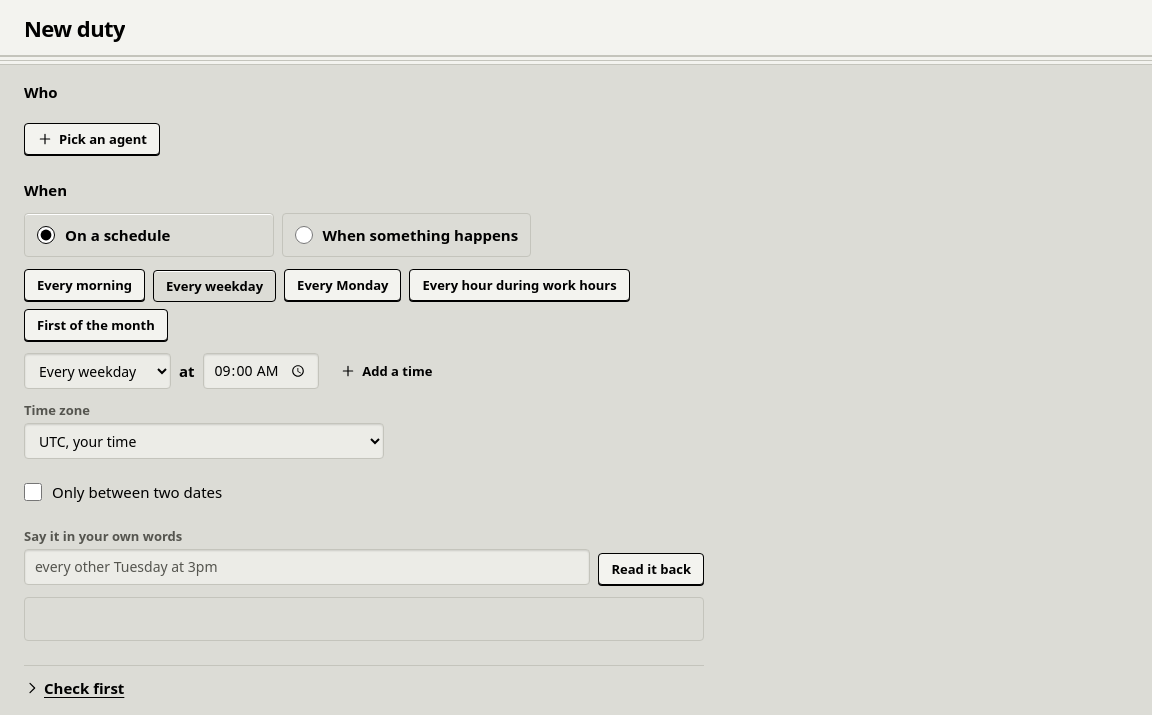
Test: When › starts a duty from an event, with its agent, and offers the chip of what happened
Click the radio button labelled "When something happens" at (304, 235), box [295,226,313,244]
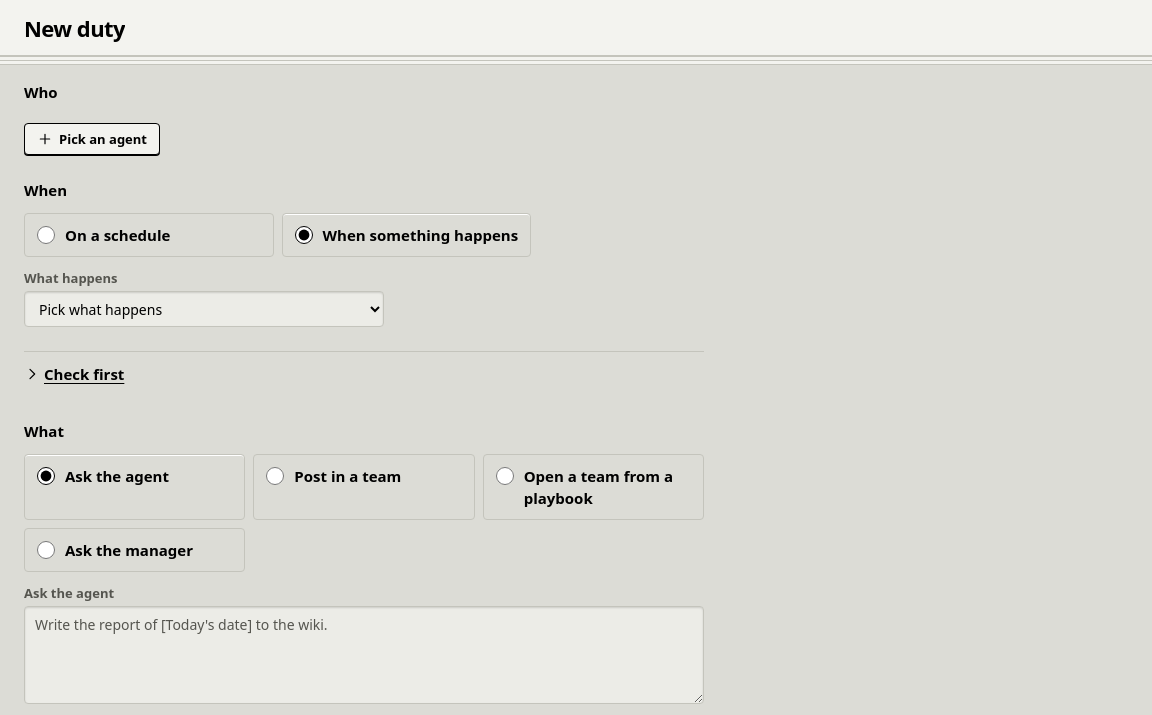
Select "When a team closes" in the dropdown labelled "What happens" at (204, 309), box [24,291,384,327]
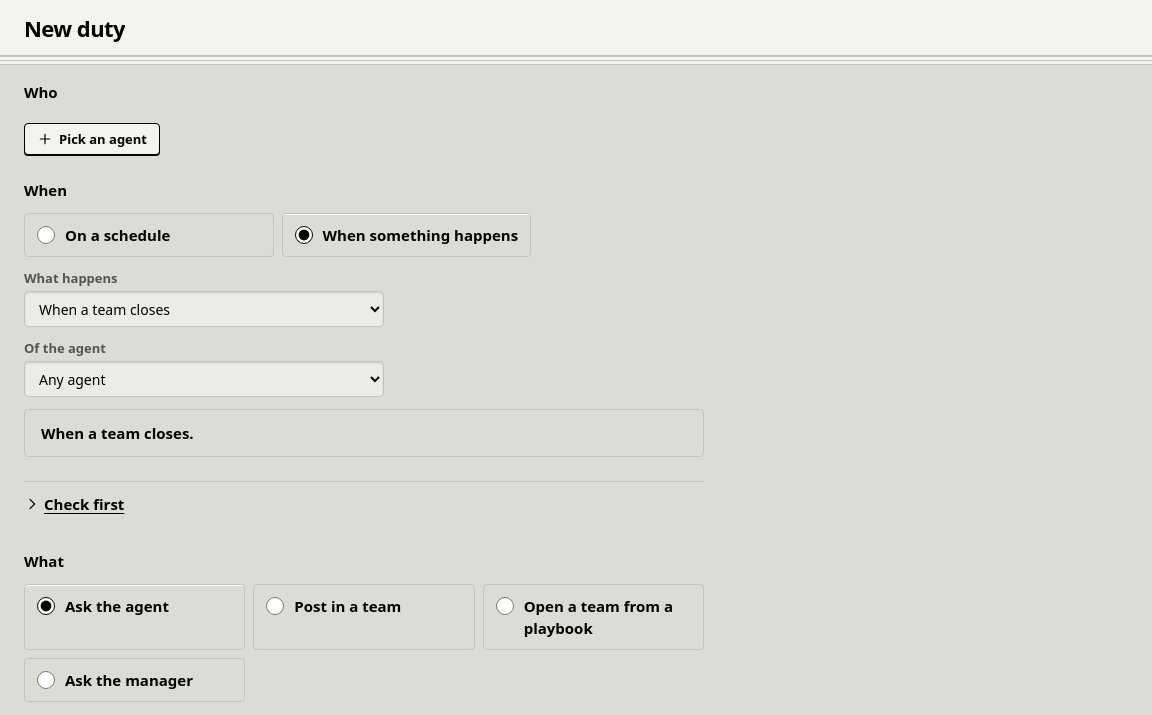
Select "Migrator" in the dropdown labelled "Of the agent" at (204, 379), box [24,361,384,397]
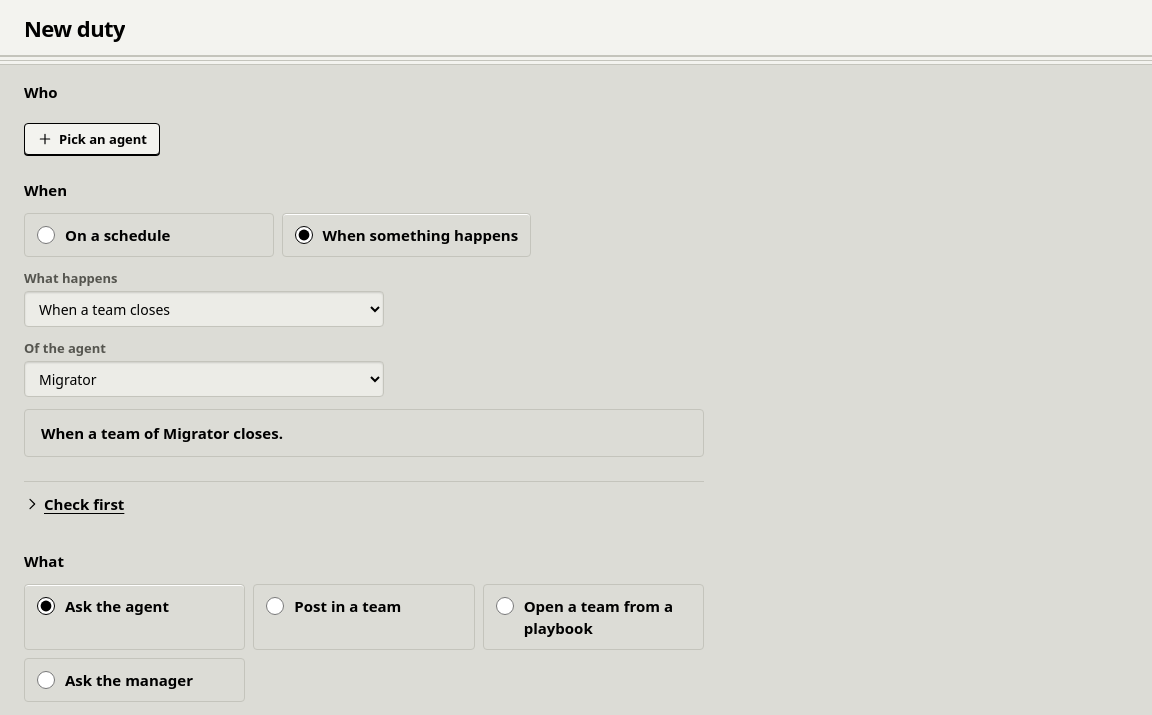
Now the text with class "duty-readback" reads "When a team of Migrator closes.", box [41,423,283,443]
Select "When a question waits too long" in the dropdown labelled "What happens" at (204, 309), box [24,291,384,327]
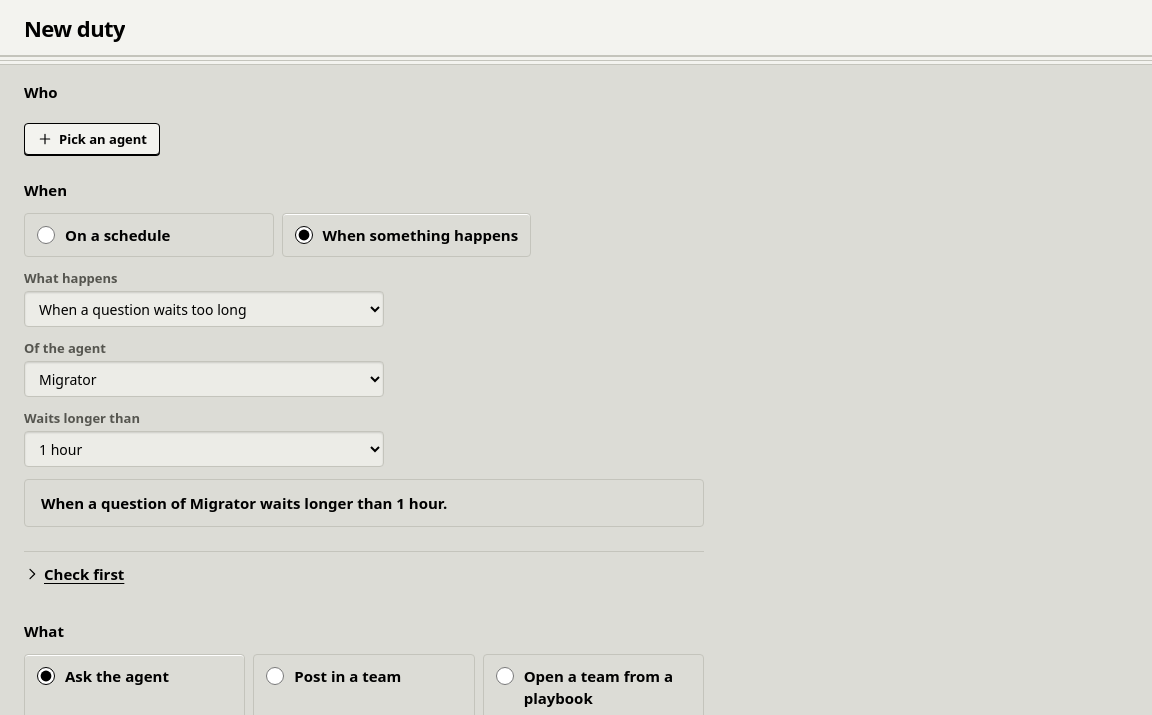
Now the dropdown labelled "Waits longer than" shows "1 hour"
Select "4 hours" in the dropdown labelled "Waits longer than" at (204, 449), box [24,431,384,467]
Select "When a page changes" in the dropdown labelled "What happens" at (204, 309), box [24,291,384,327]
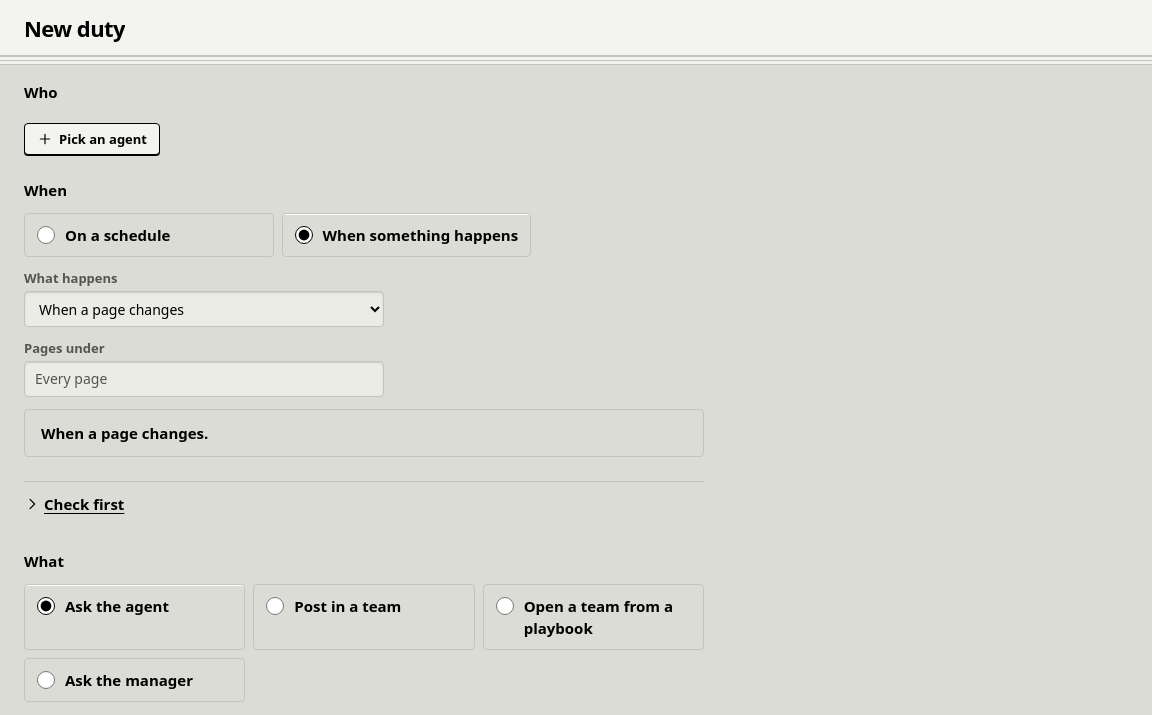
Type "homelab/" into the field labelled "Pages under" at (204, 379), box [24,361,384,397]
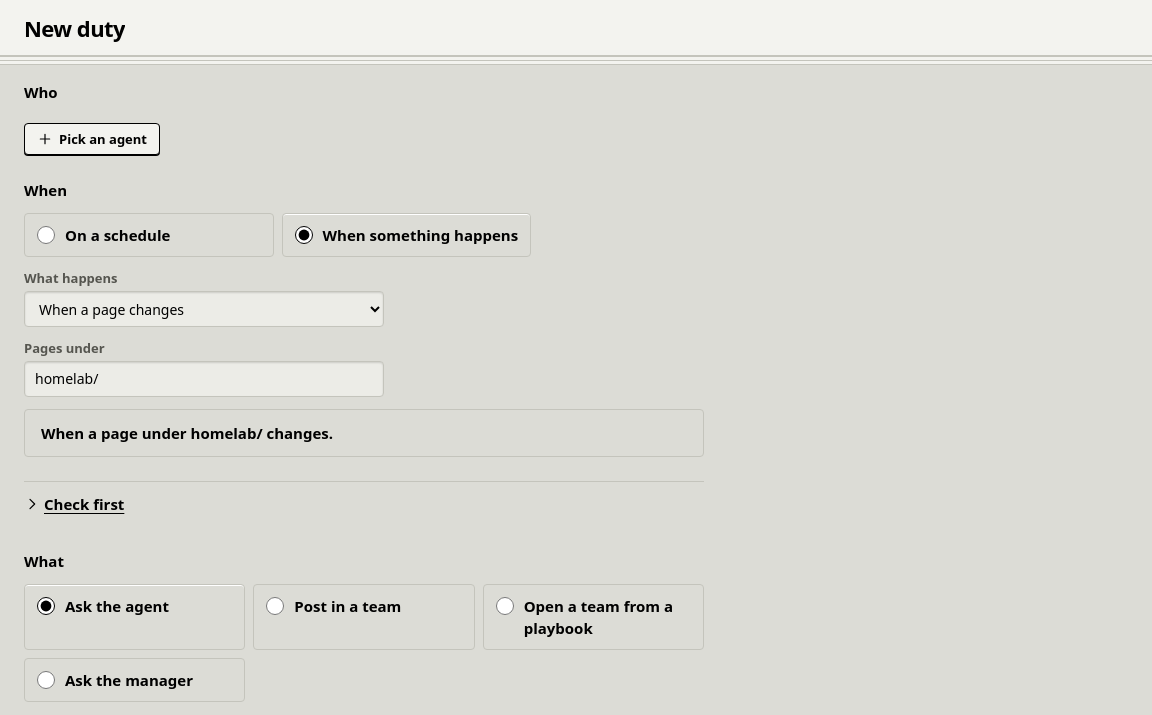
Now the text with class "duty-readback" reads "When a page under homelab/ changes.", box [41,423,333,443]
